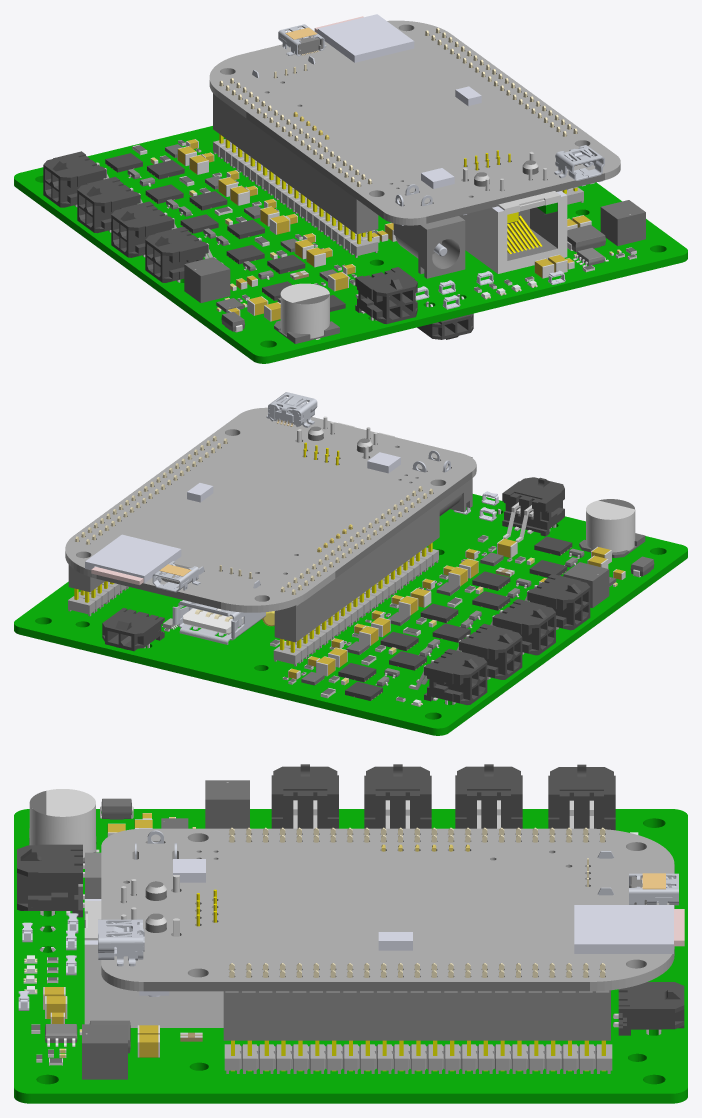
File: darcy-bms.glb
3 views of the same model, one above another, from view 1: azimuth 30°, elevation 25°; view 2: azimuth 150°, elevation 25°; view 3: azimuth 270°, elevation 25° (orthographic). The views are drawn at different scales.
Visible parts, largest first — view 1: Node25, Node20, Node7, Node12, Node32, Node19, Node5, Node40, Node49, Node34, Node50, Node1 (+10 smaller); view 2: Node25, Node20, Node7, Node40, Node32, Node3, Node12, Node10, Node19, Node1, Node34, Node5 (+10 smaller); view 3: Node25, Node20, Node7, Node1, Node10, Node19, Node50, Node5, Node49, Node32, Node3, Node2 (+8 smaller).
Part boxes in pixels (left/top/right/bottom): Node25: left=209, top=20, right=620, bottom=225; Node20: left=14, top=126, right=687, bottom=363; Node7: left=43, top=151, right=473, bottom=339; Node12: left=213, top=93, right=465, bottom=278; Node32: left=128, top=139, right=636, bottom=339; Node19: left=317, top=14, right=602, bottom=309; Node5: left=165, top=144, right=645, bottom=312; Node40: left=105, top=153, right=345, bottom=311; Node49: left=246, top=112, right=604, bottom=260; Node34: left=178, top=139, right=590, bottom=321; Node50: left=459, top=169, right=567, bottom=273; Node1: left=288, top=36, right=378, bottom=234; Node25: left=65, top=407, right=476, bottom=612; Node20: left=14, top=494, right=687, bottom=735; Node7: left=102, top=477, right=590, bottom=705; Node40: left=338, top=536, right=572, bottom=700; Node32: left=164, top=500, right=640, bottom=702; Node3: left=152, top=392, right=450, bottom=644; Node12: left=274, top=456, right=472, bottom=642; Node10: left=68, top=547, right=438, bottom=666; Node19: left=85, top=452, right=499, bottom=583; Node1: left=68, top=502, right=439, bottom=591; Node34: left=288, top=538, right=624, bottom=678; Node5: left=301, top=552, right=616, bottom=685; Node25: left=101, top=828, right=674, bottom=991; Node20: left=14, top=809, right=687, bottom=1103; Node7: left=17, top=764, right=684, bottom=1035; Node1: left=223, top=876, right=669, bottom=1040; Node10: left=224, top=1044, right=612, bottom=1073; Node19: left=18, top=859, right=673, bottom=1010; Node50: left=84, top=913, right=223, bottom=1027; Node5: left=82, top=780, right=249, bottom=1079; Node49: left=84, top=864, right=674, bottom=991; Node32: left=29, top=789, right=159, bottom=1065; Node3: left=98, top=830, right=678, bottom=966; Node2: left=23, top=827, right=605, bottom=992.
Bounding box in the file's own units: 102 × 26.78 × 102.
